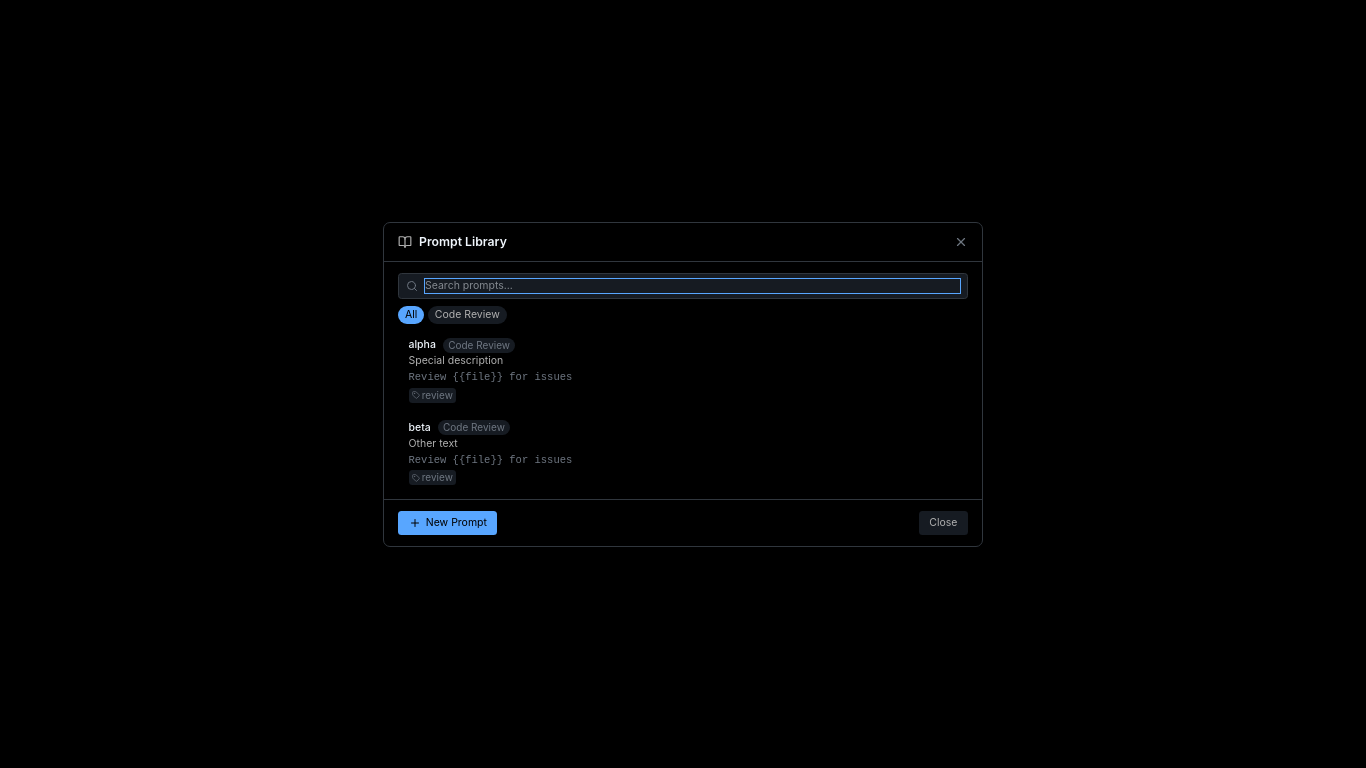
Test case: PromptLibraryDialog › filters prompts by search query on description
The width and height of the screenshot is (1366, 768).
Type "special" into the field with placeholder "Search prompts...".
click(692, 286); type("special")  # box 425,279 -> 960,293
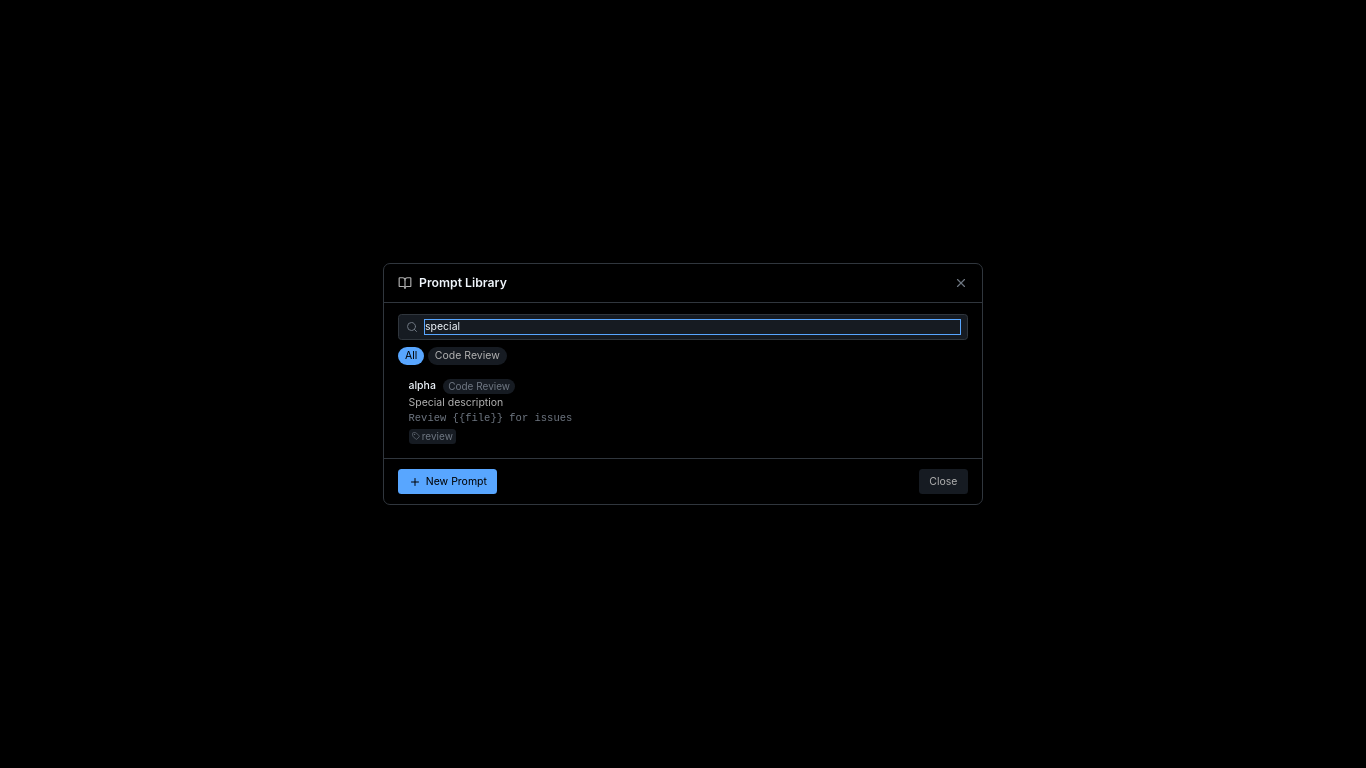
Expected: the text "alpha" is shown, 408,379 -> 436,393
Now the button "beta" is gone
